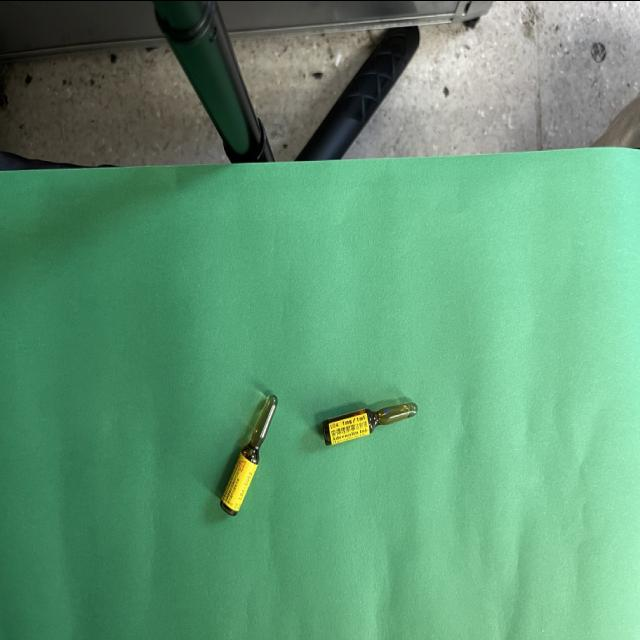Ampoules: (220, 394, 278, 514), (323, 401, 418, 444)
